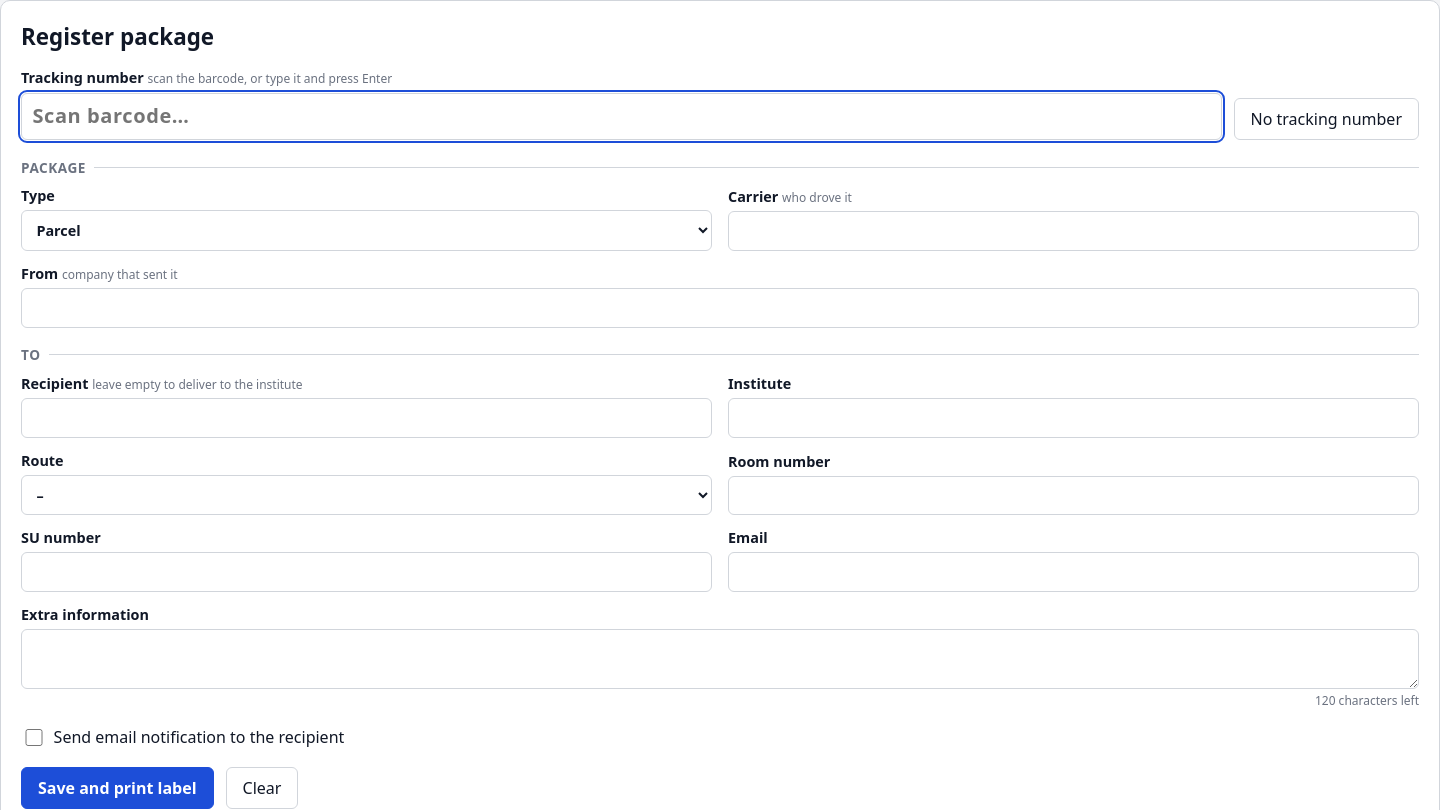
Scenario: "No tracking number" creates one
The image size is (1440, 810).
Click the button "No tracking number": (1326, 119) left=1234, top=98, right=1419, bottom=140
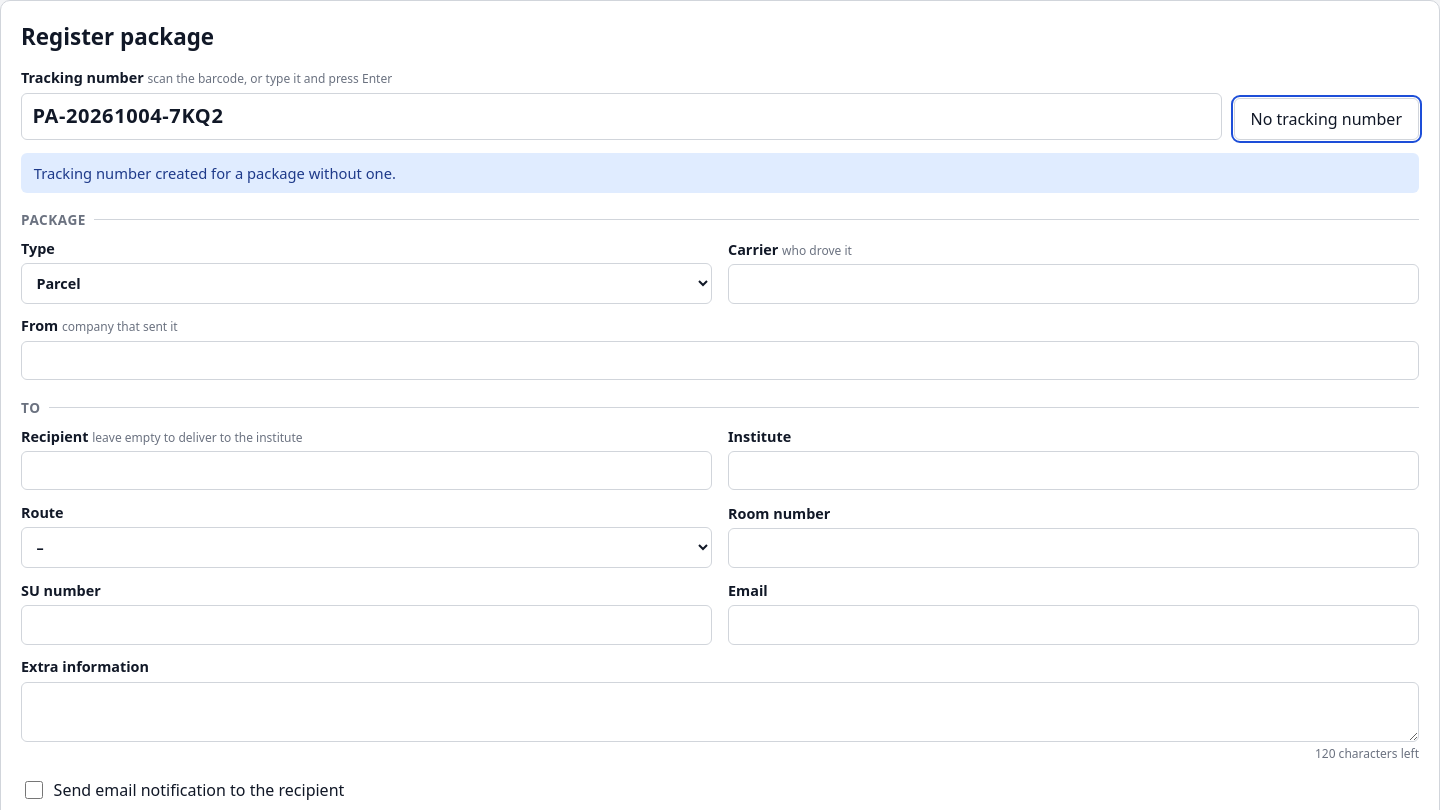
Now the field labelled "Tracking number scan the barcode, or type it and press Enter" holds "PA-20261004-7KQ2", box left=21, top=92, right=1222, bottom=140
